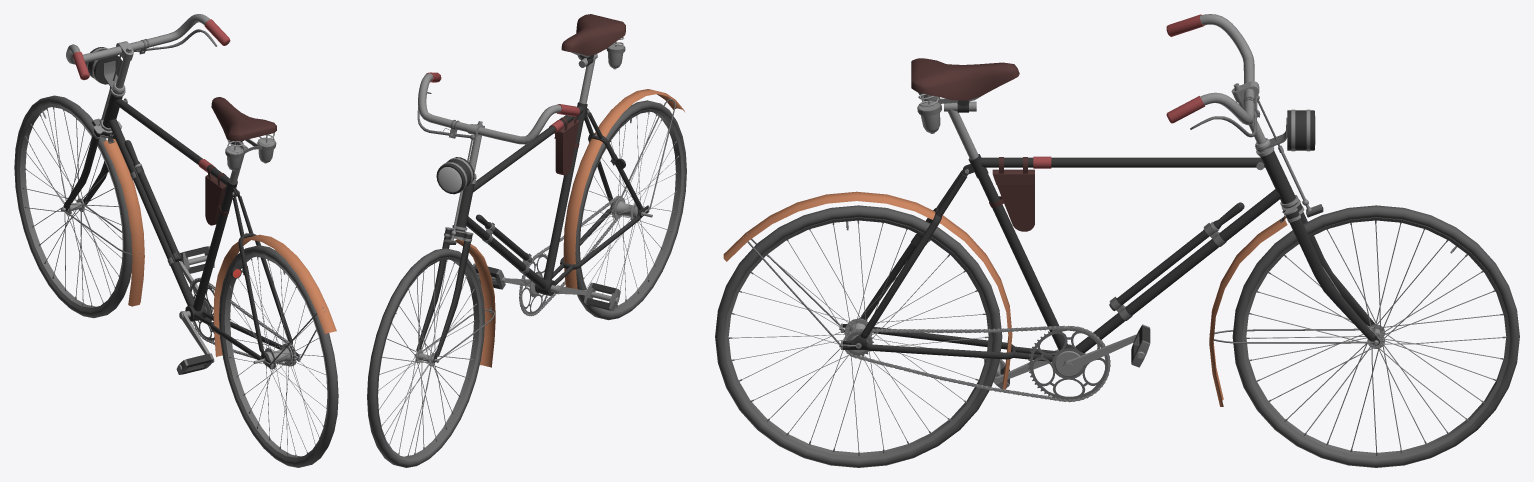
The model's file is bike.glb.
The picture shows the model from 3 angles, left to right: view 1: azimuth 30°, elevation 25°; view 2: azimuth 150°, elevation 25°; view 3: azimuth 270°, elevation 25°; orthographic projection. The views are drawn at different scales.
Visible parts, largest first — view 1: pCylinder40_38, pCylinder44_47, pCylinder43_46, pCylinder42_40, pCylinder41_39, polySurface11_48, pCylinder171_102, polySurface3_9, pCube2_11, pCylinder2_16, pCylinder171.001_119, polySurface1_41 (+15 smaller); view 2: pCylinder44_47, pCylinder42_40, pCylinder40_38, pCylinder43_46, pCylinder41_39, pCylinder171_102, pCube2_11, polySurface1_41, pCube4_37, polySurface11_48, polySurface3_9, pCylinder171.005_116 (+15 smaller); view 3: pCylinder44_47, pCylinder40_38, pCylinder43_46, pCylinder41_39, pCylinder171_102, polySurface3_9, pCylinder42_40, pCube2_11, pCylinder1_14, pCylinder2_16, pCylinder171.001_119, pCylinder171.005_116 (+13 smaller).
Boxes of the visible parts, x1,y1,x2,y2 form: pCylinder40_38: (219,245,338,467); pCylinder44_47: (14,95,132,318); pCylinder43_46: (17,104,123,311); pCylinder42_40: (213,234,336,356); pCylinder41_39: (221,254,327,461); polySurface11_48: (103,138,144,306); pCylinder171_102: (230,260,326,454); polySurface3_9: (210,233,292,359); pCube2_11: (211,97,276,141); pCylinder2_16: (108,119,194,305); pCylinder171.001_119: (26,110,121,304); polySurface1_41: (66,14,210,64); pCylinder44_47: (367,248,484,467); pCylinder42_40: (563,89,684,289); pCylinder40_38: (575,100,686,320); pCylinder43_46: (377,256,482,461); pCylinder41_39: (579,109,684,313); pCylinder171_102: (580,114,676,304); pCube2_11: (561,14,625,55); polySurface1_41: (418,73,561,144); pCube4_37: (416,236,470,362); polySurface11_48: (455,239,495,367); polySurface3_9: (560,133,641,269); pCylinder171.005_116: (378,263,475,452); pCylinder44_47: (1232,205,1519,467); pCylinder40_38: (715,205,1002,467); pCylinder43_46: (1242,217,1510,460); pCylinder41_39: (724,217,992,460); pCylinder171_102: (732,223,984,451); polySurface3_9: (860,208,1015,359); pCylinder42_40: (723,191,1012,389); pCube2_11: (911,58,1019,100); pCylinder1_14: (980,157,1265,167); pCylinder2_16: (1073,189,1280,353); pCylinder171.001_119: (1252,225,1500,449); pCylinder171.005_116: (1250,223,1502,452).
Size of the model in its own units: 3.69 by 7.68 by 13.57.
